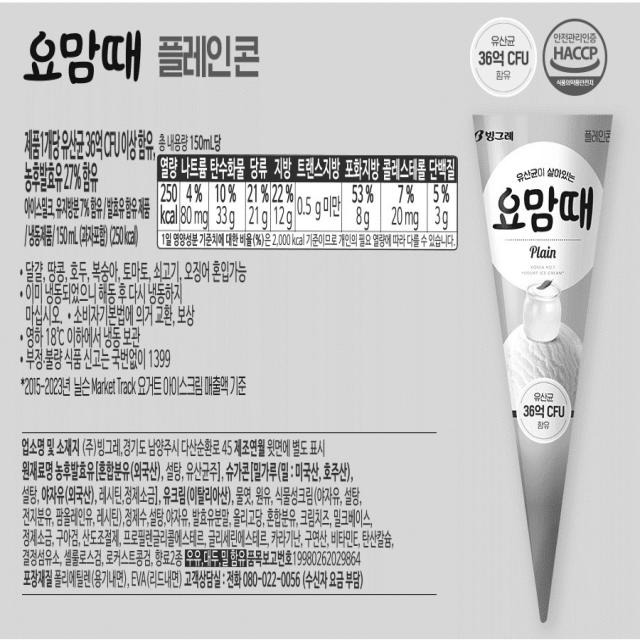Nutrition Label: (157, 154, 462, 260)
